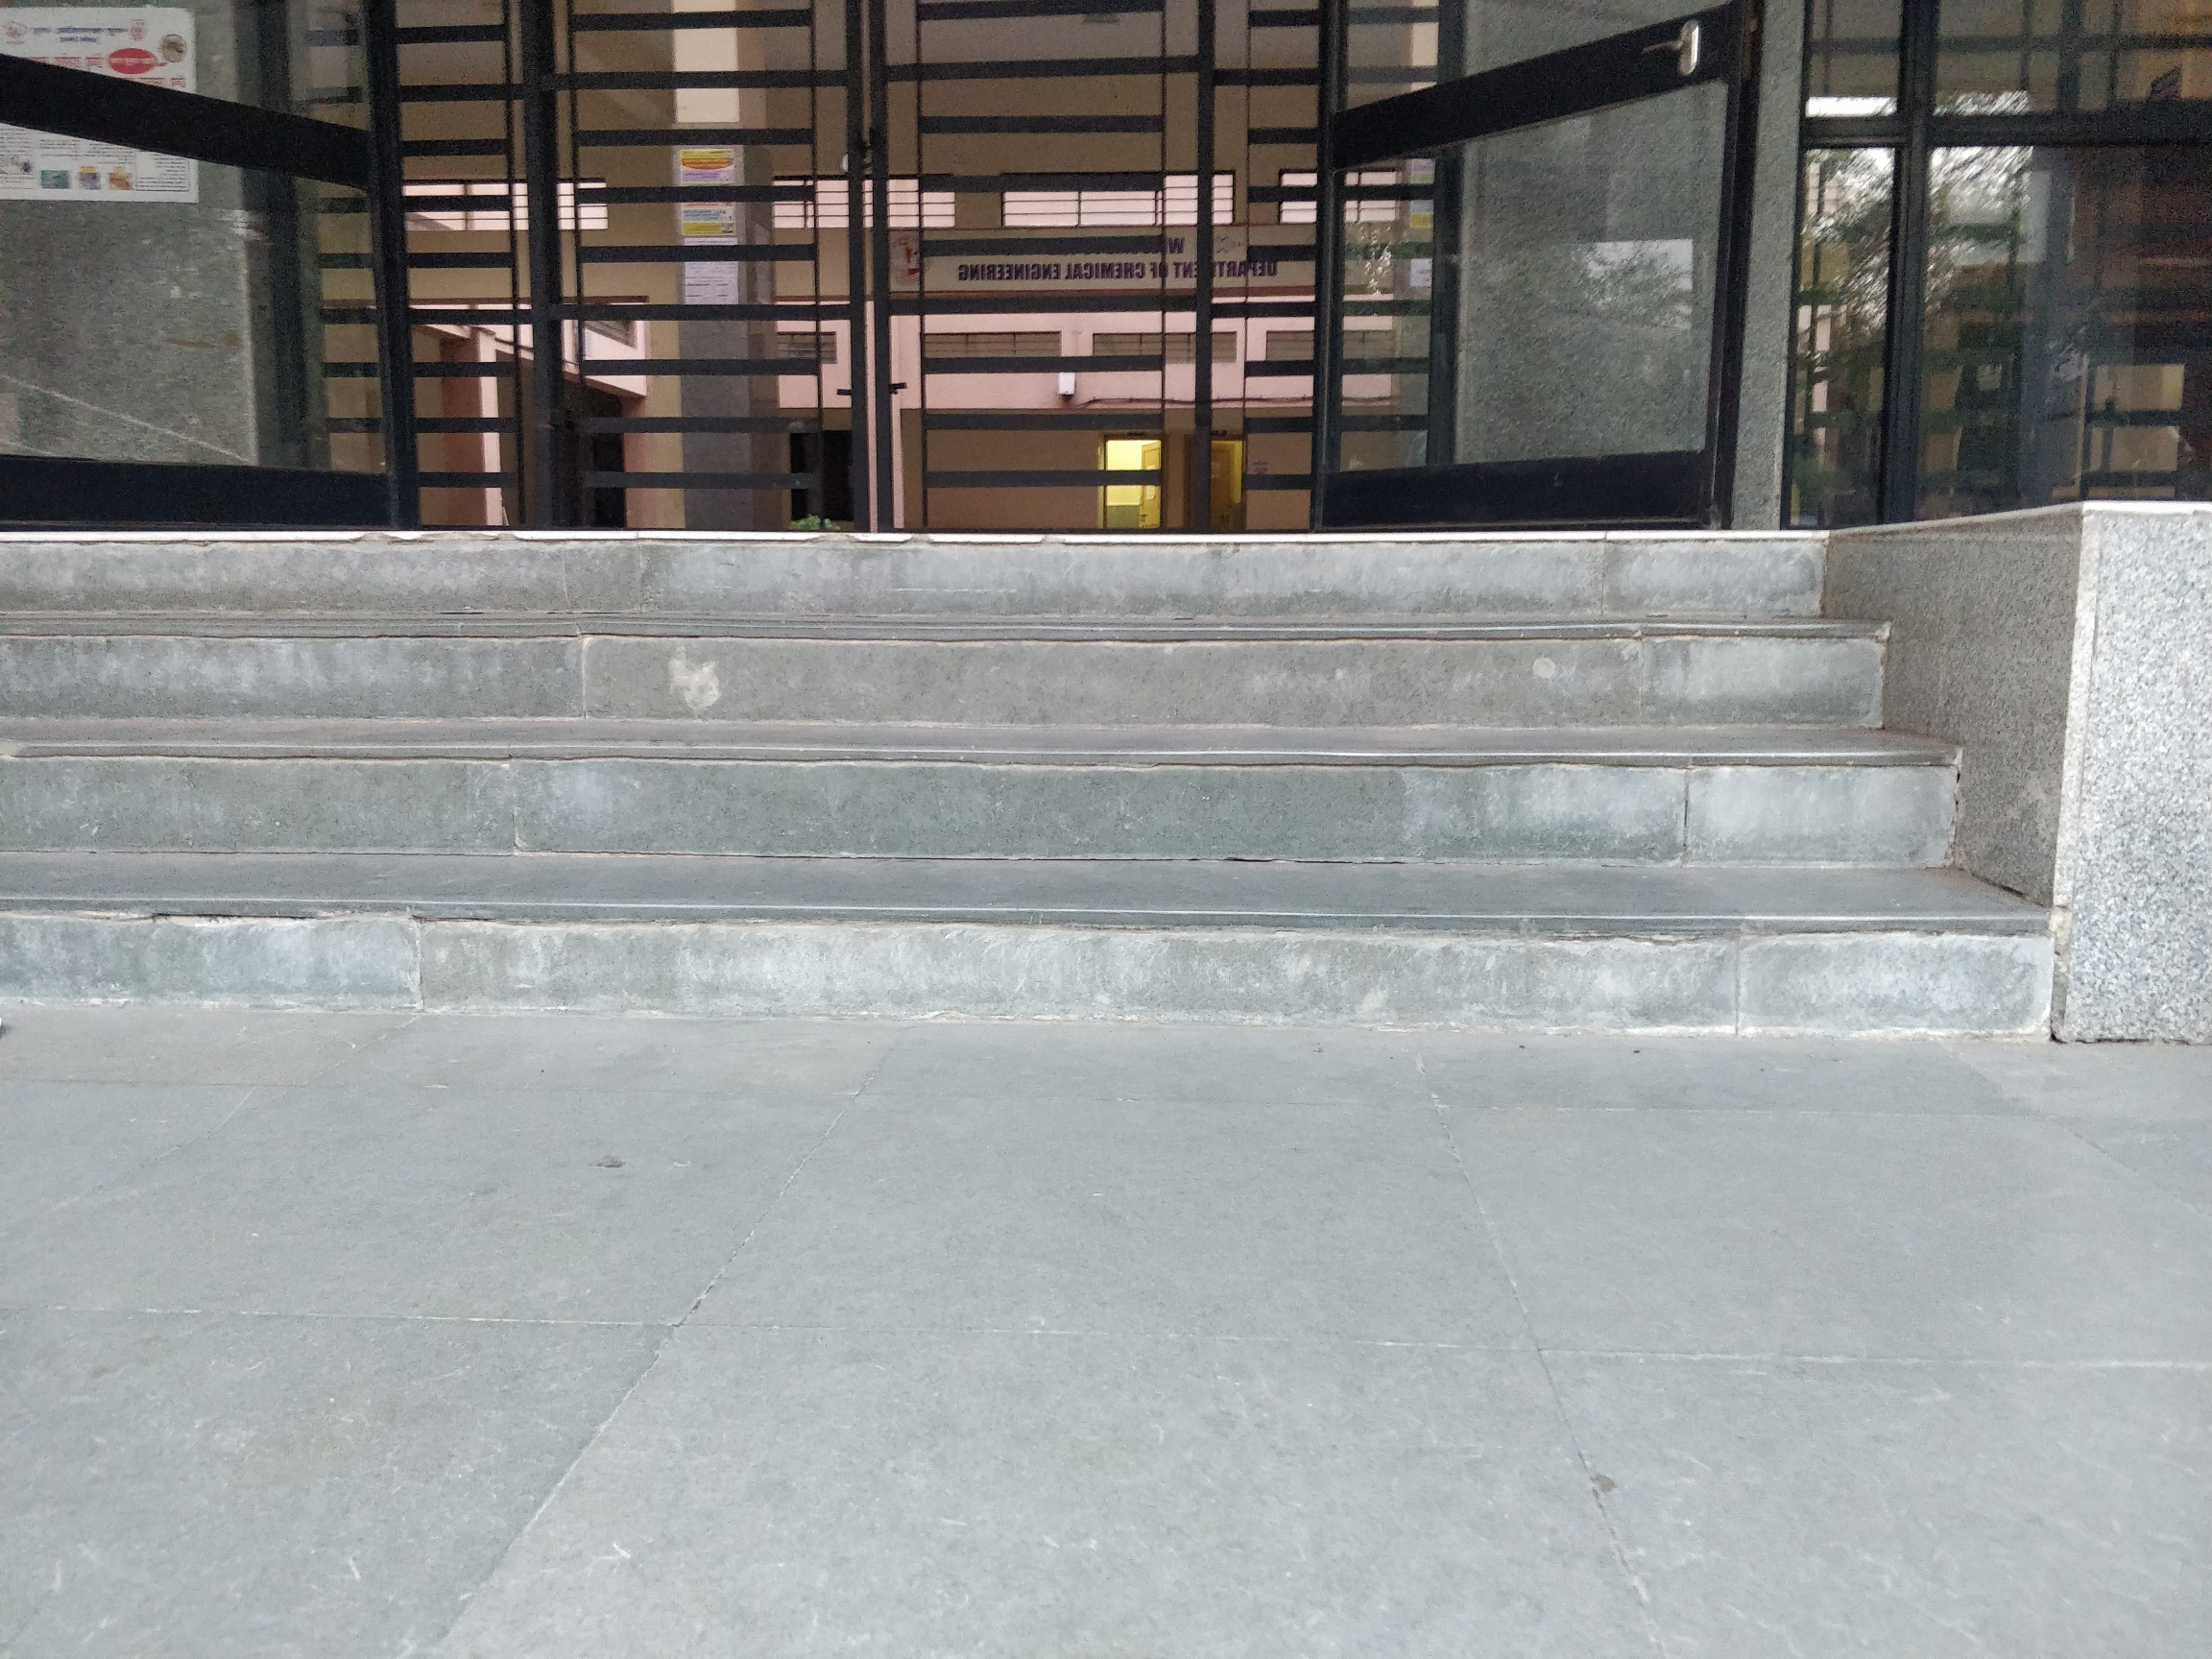stairs_up: (2, 521, 2069, 1060)
